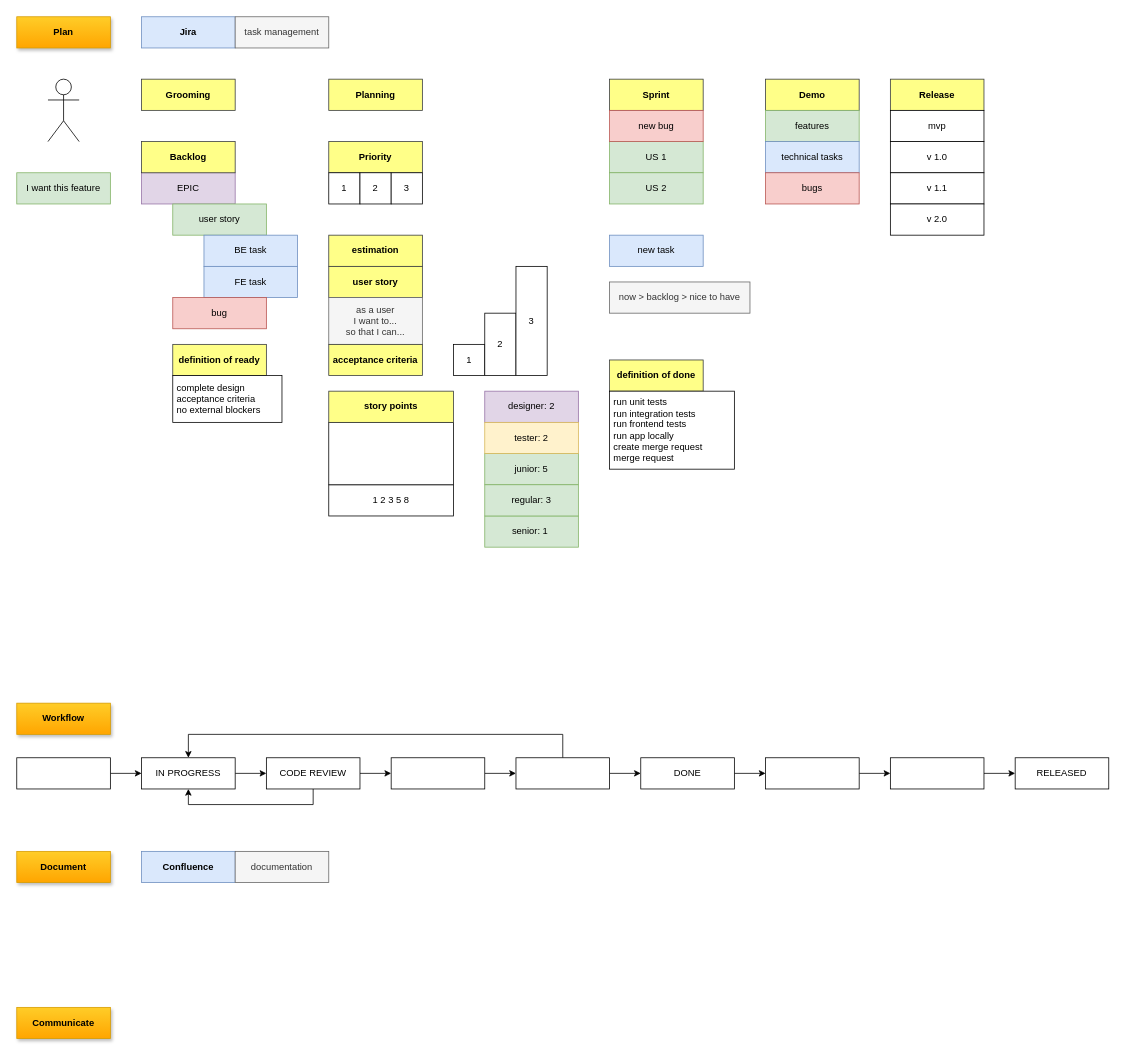
Image size: 1122x1058. Some labels were removed from this diagram. The shapes that lost their labels are listed below. From the top down, each one's centre as x and y in pixels, then its label:
pixel 63 110: customer
pixel 391 453: code complexity design complexity knowledge risk
pixel 63 773: TODO
pixel 437 773: DEV DONE
pixel 562 773: TESTING
pixel 812 773: SELECTED FOR RELEASE
pixel 937 773: READY FOR RELEASE
